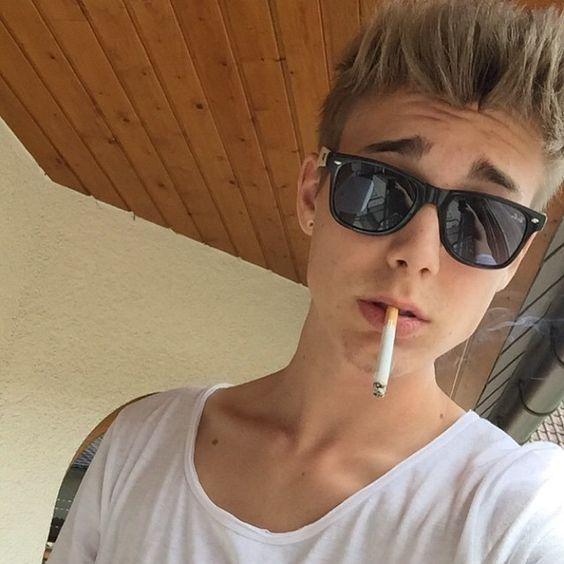cigarette: (372, 306, 399, 397)
